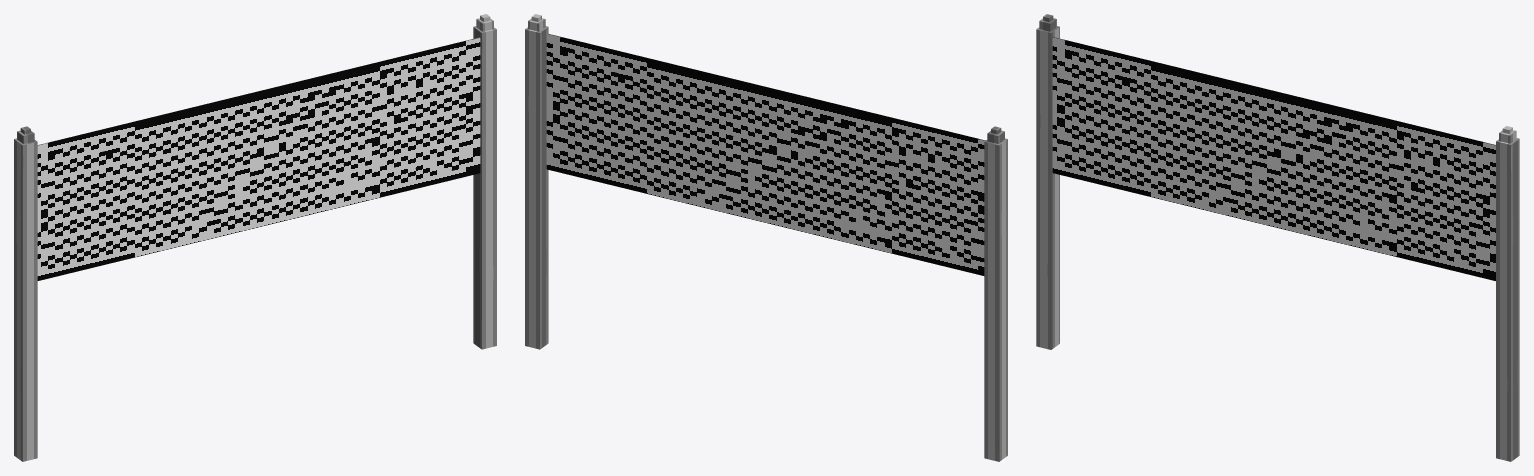
File: BGN_VOLLYBALL NET.fbx
The picture shows the model from 3 angles, left to right: view 1: azimuth 30°, elevation 25°; view 2: azimuth 150°, elevation 25°; view 3: azimuth 330°, elevation 25°; orthographic projection.
Parts seen in each view (by area): view 1: BGN_VOLLYBALL NET; view 2: BGN_VOLLYBALL NET; view 3: BGN_VOLLYBALL NET.
Boxes of the visible parts, x1,y1,x2,y2 form: BGN_VOLLYBALL NET: [14, 14, 496, 461]; BGN_VOLLYBALL NET: [525, 14, 1007, 461]; BGN_VOLLYBALL NET: [1036, 14, 1519, 461].
Bounding box in the file's own units: 630 × 417 × 20.01.
2 materials, 2 textured.
